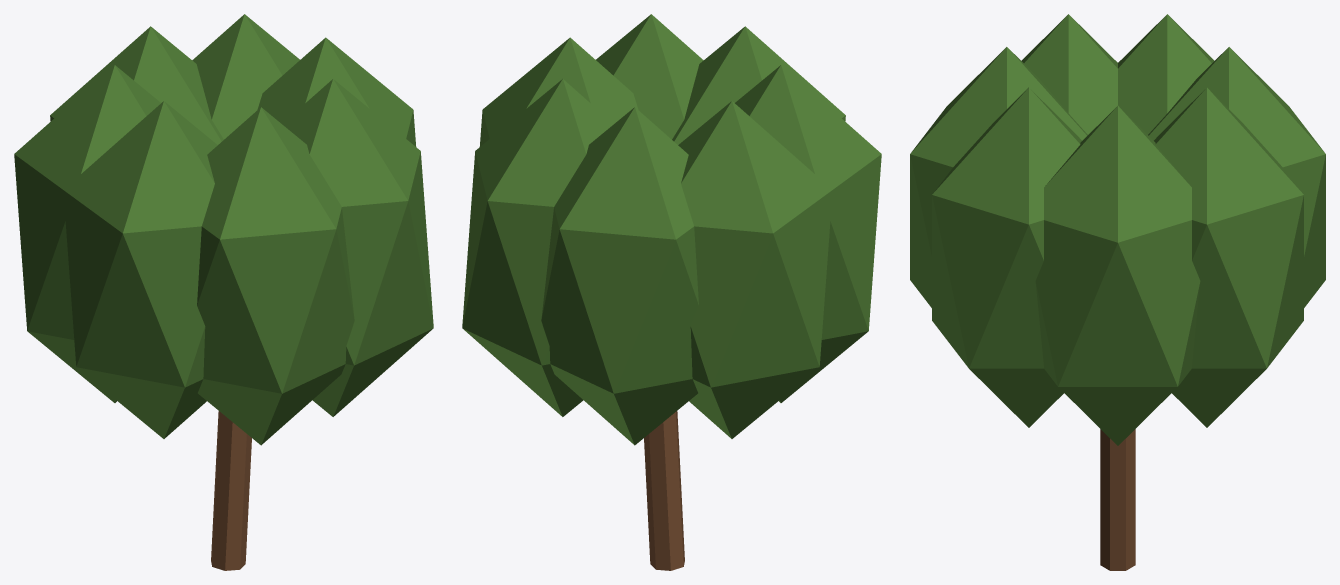
Rendered from tree_12.glb.
3 views of the same model, side by side, from view 1: azimuth 30°, elevation 25°; view 2: azimuth 150°, elevation 25°; view 3: azimuth 270°, elevation 25° (orthographic).
Parts seen in each view (by area): view 1: tree_12; view 2: tree_12; view 3: tree_12.
Boxes of the visible parts, x1=… form: tree_12: x1=14, y1=14, x2=433, y2=570; tree_12: x1=462, y1=14, x2=881, y2=570; tree_12: x1=910, y1=14, x2=1325, y2=570.
Bounding box in the file's own units: 1.62 × 2.16 × 1.61.
